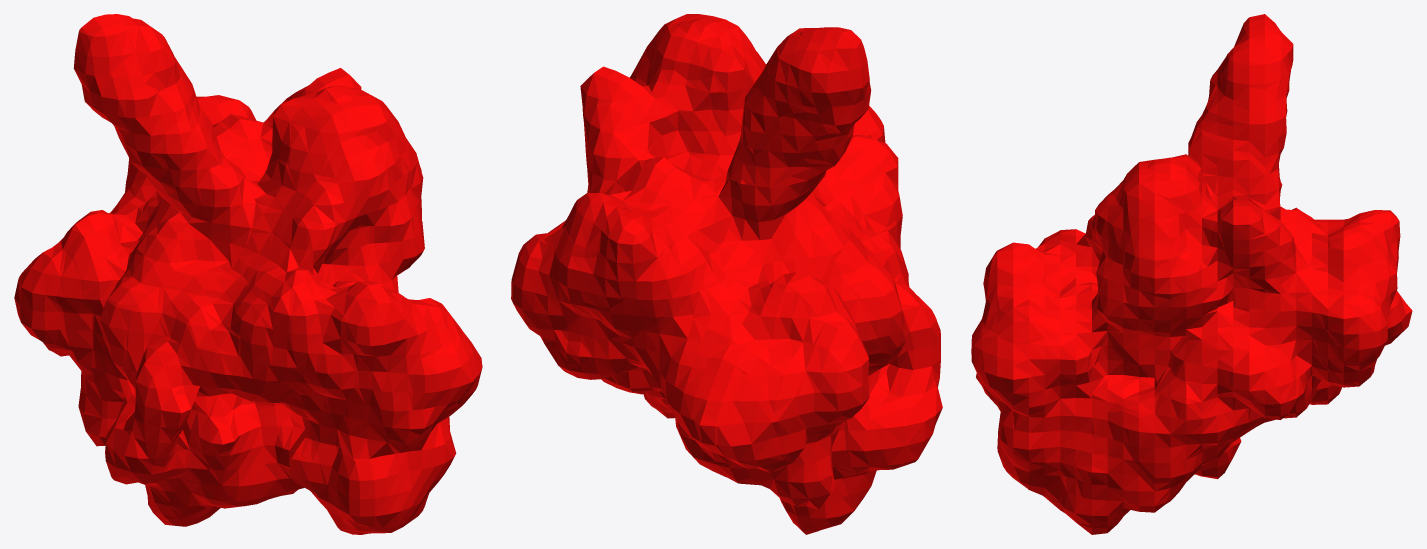
File: Heat_shock_protein_HSP_90_beta_coarse.dae
The picture shows the model from 3 angles, left to right: view 1: azimuth 30°, elevation 25°; view 2: azimuth 150°, elevation 25°; view 3: azimuth 270°, elevation 25°; orthographic projection. The views are drawn at different scales.
Parts seen in each view (by area): view 1: Heat_shock_protein_HSP_90_beta; view 2: Heat_shock_protein_HSP_90_beta; view 3: Heat_shock_protein_HSP_90_beta.
Part boxes in pixels (x1,y1,x2,y2): Heat_shock_protein_HSP_90_beta: (14,14,482,534); Heat_shock_protein_HSP_90_beta: (511,14,942,534); Heat_shock_protein_HSP_90_beta: (971,14,1412,534).
Size of the model in its own units: 92.61 by 139 by 126.
